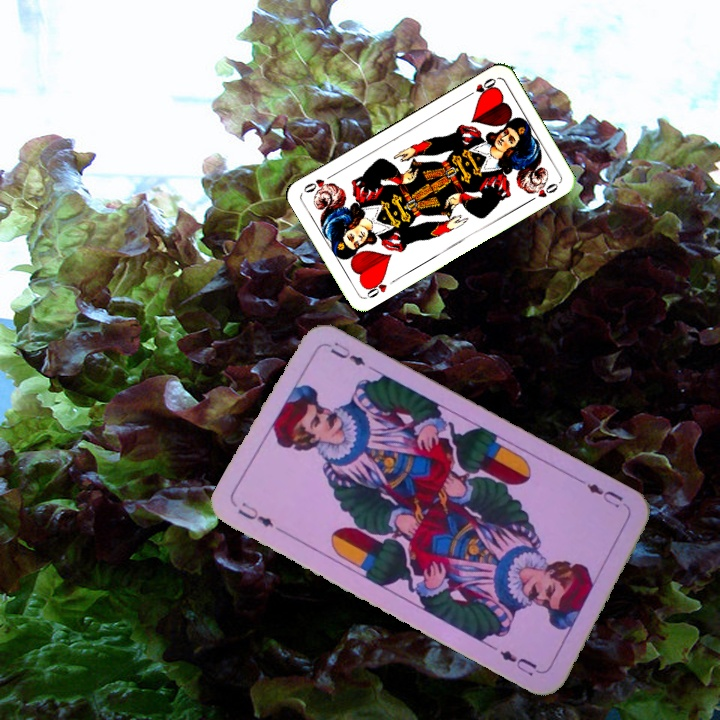EU: (233, 497, 277, 530), (582, 479, 626, 511)
HO: (462, 74, 499, 100), (361, 274, 389, 301)
